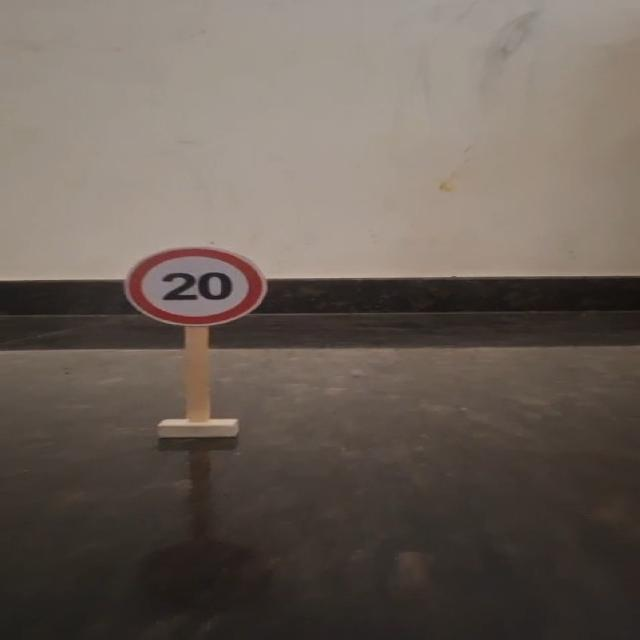Speed20: (115, 244, 275, 330)
